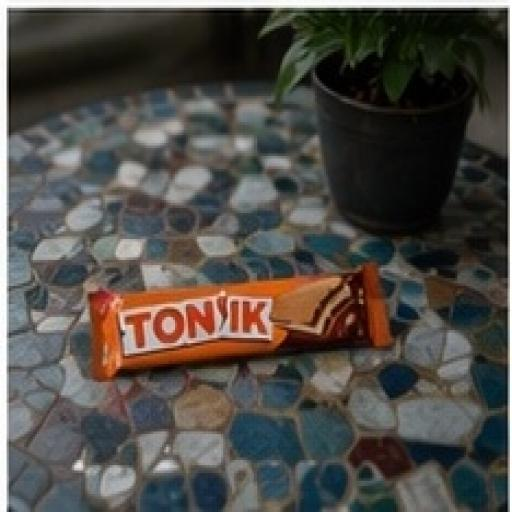tonik: (66, 221, 455, 443)
